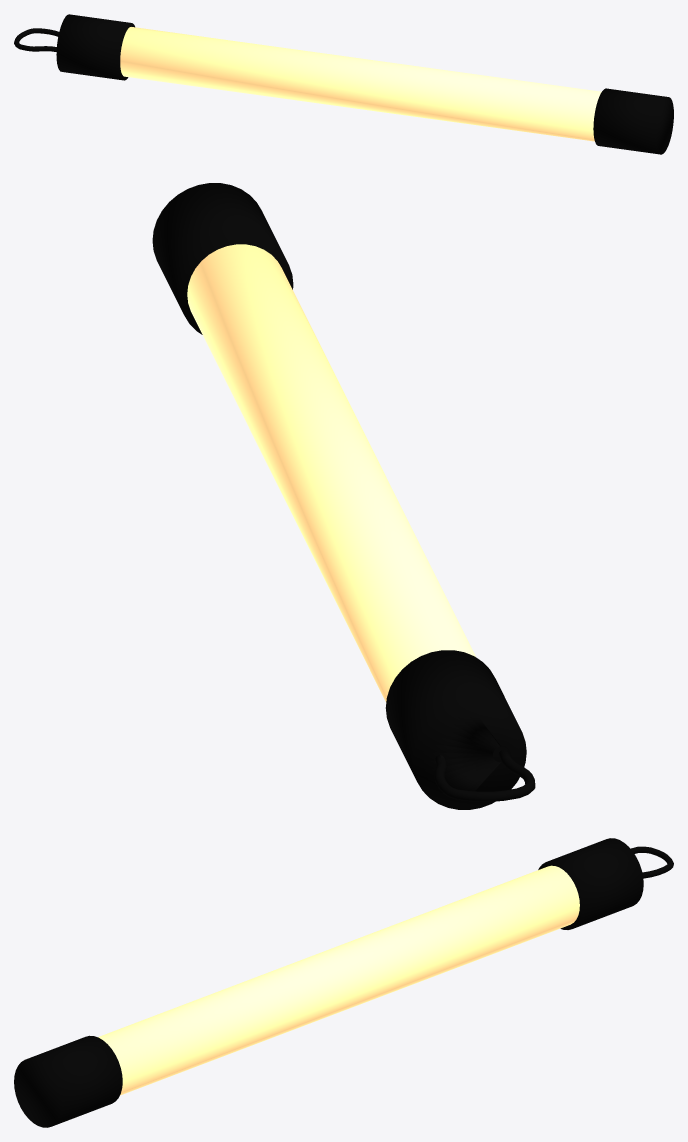
The model's file is cycles-glowstick-sketchfab.fbx.
3 renders of one model, top to bottom at view 1: azimuth 30°, elevation 25°; view 2: azimuth 150°, elevation 25°; view 3: azimuth 270°, elevation 25°, orthographic. The views are drawn at different scales.
Visible parts, largest first — view 1: Cylinder_001; view 2: Cylinder_001; view 3: Cylinder_001.
Boxes of the visible parts, left/top/right/bottom form: Cylinder_001: left=14, top=14, right=673, bottom=154; Cylinder_001: left=152, top=183, right=535, bottom=809; Cylinder_001: left=14, top=838, right=673, bottom=1127.
Bounding box in the file's own units: 0.7373 × 0.0877 × 0.8025.
